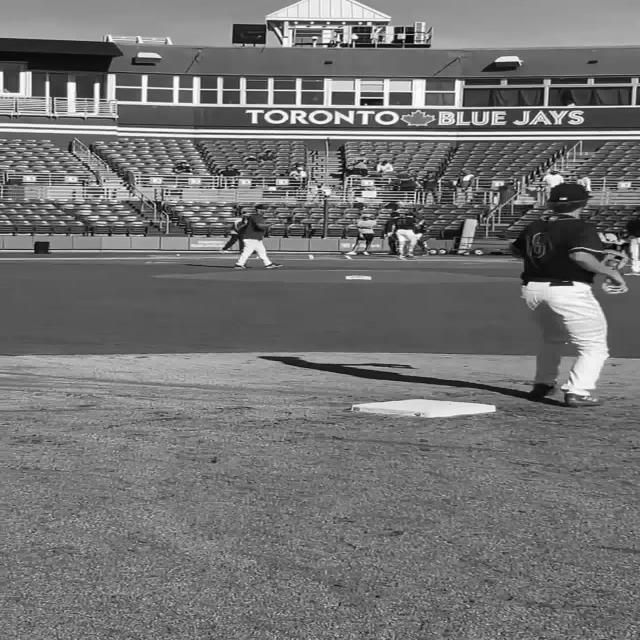base: (346, 398, 506, 418)
shoe: (563, 393, 601, 406), (528, 383, 554, 400), (265, 263, 283, 268), (232, 264, 248, 269), (343, 251, 357, 255), (360, 251, 370, 255)
